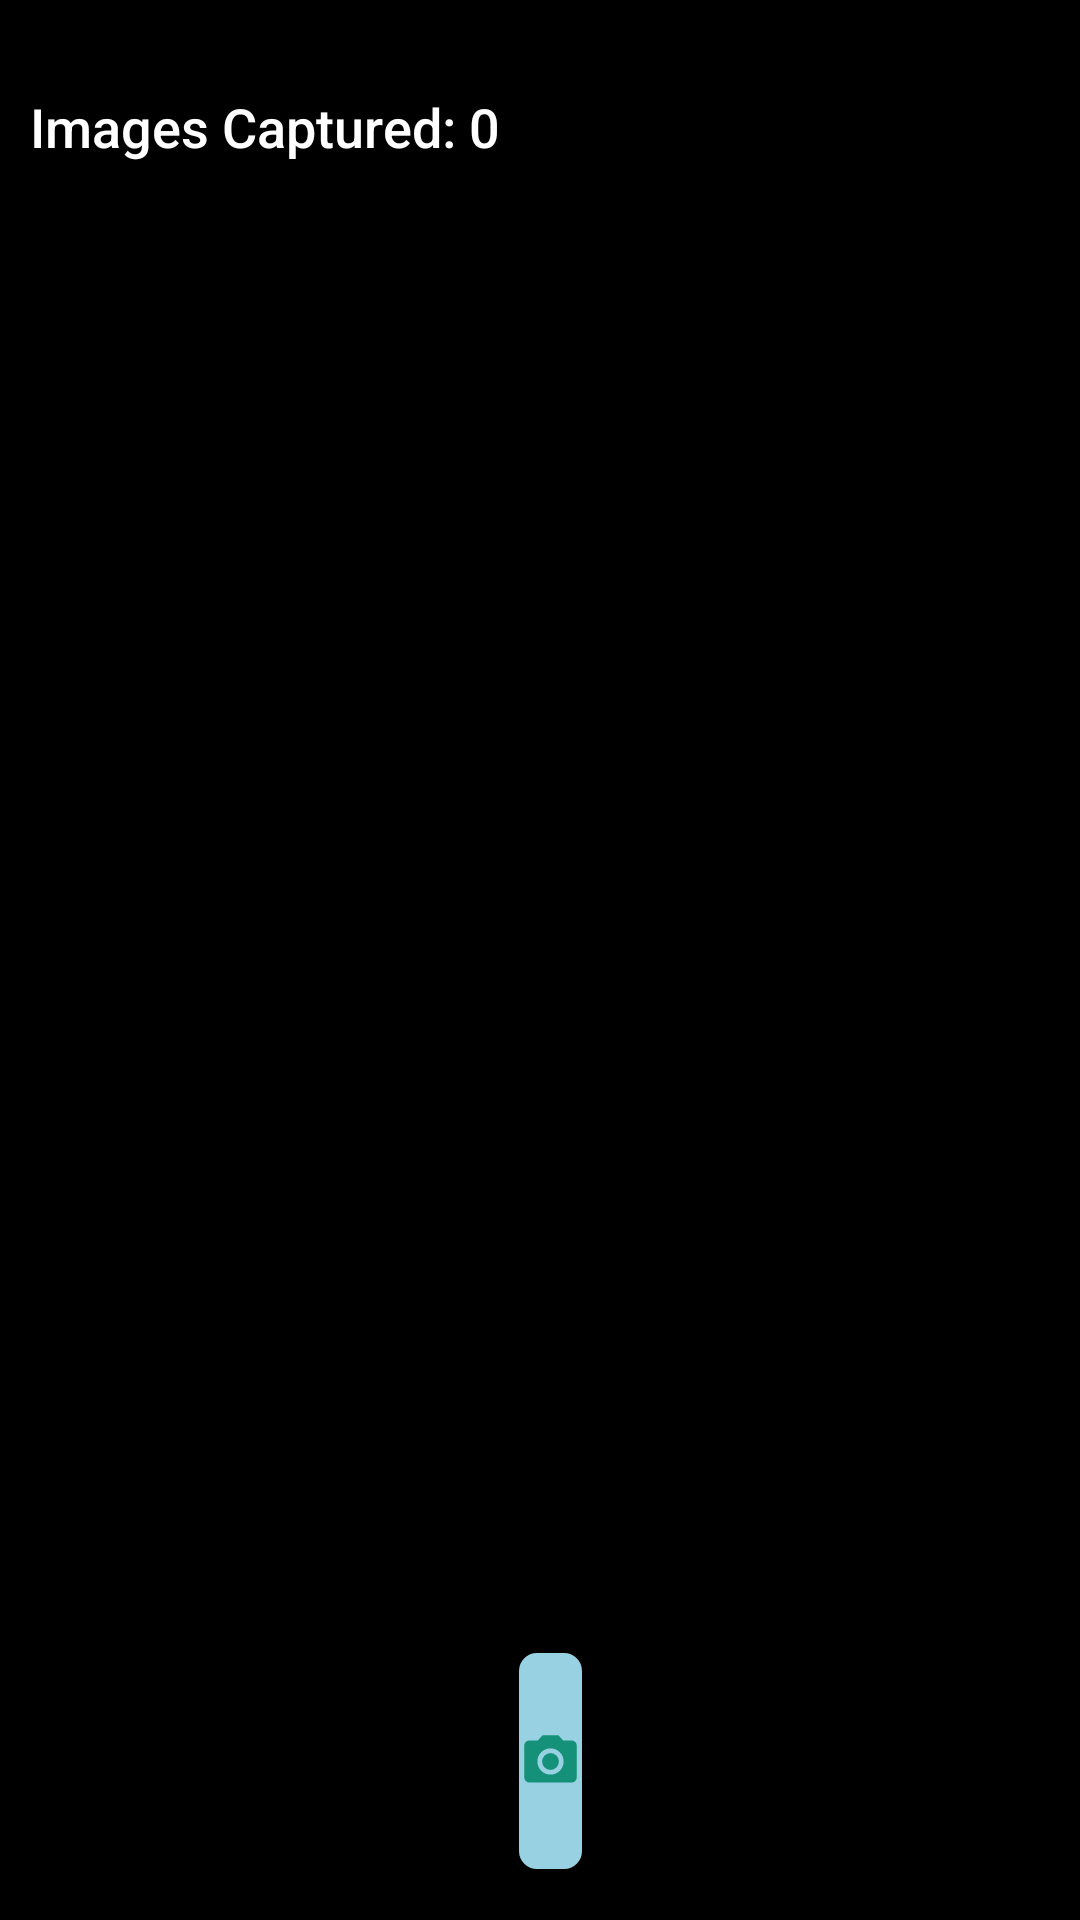

Icons on this 1080 × 1920 Android screen, each with the point to tap as [x,y]:
Start/Stop Capture: [550,1761]
